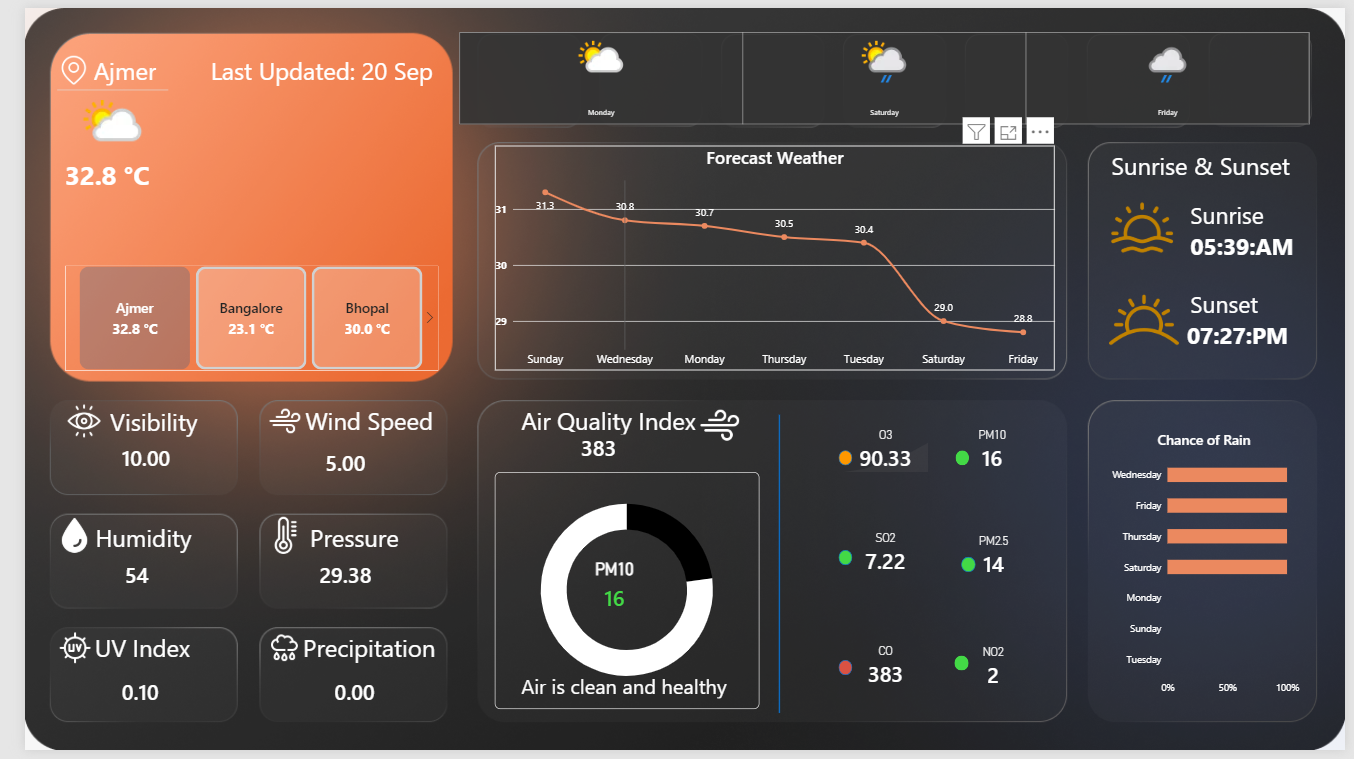

Layout of this report page (visuals, bound fields, positions):
{"tool":"powerbi","page":{"name":"Page 1","canvas":[1920,1080],"ordinal":0},"visuals":[{"type":"advancedSlicerVisual","fields":{"Values":["location.location.name"]},"box":[57.5,375,542.5,152.5],"z":0},{"type":"shape","box":[270,55,345,70],"z":1000},{"type":"image","box":[50.7,63.4,41.7,54.3],"z":2000},{"type":"cardVisual","fields":{"Data":["Min(Current Data.current.condition.icon)"]},"box":[46,16,162,204],"z":3000},{"type":"image","box":[0,576,172,48],"z":4000},{"type":"shape","box":[58,576,258,48],"z":5000},{"type":"image","box":[208,576,340,48],"z":6000},{"type":"shape","box":[402,576,198,46],"z":7000},{"type":"image","box":[8,740,128,54],"z":8000},{"type":"shape","box":[74,746,198,46],"z":9000},{"type":"image","box":[288,740,182,54],"z":10000},{"type":"shape","box":[380,746,198,46],"z":11000},{"type":"image","box":[0,906,146,48],"z":12000},{"type":"shape","box":[72,906,198,46],"z":13000},{"type":"image","box":[298,906,158,48],"z":14000},{"type":"shape","box":[402,906,198,46],"z":15000},{"type":"kpi","fields":{"Indicator":["Sum(Current Data.current.vis_km)"],"TrendLine":["Current Data.current.vis_km"]},"box":[50,570,252,170],"z":16000},{"type":"kpi","fields":{"Indicator":["Sum(Current Data.current.wind_kph)"],"TrendLine":["Current Data.current.wind_kph"]},"box":[340,576,252,170],"z":17000},{"type":"kpi","fields":{"TrendLine":["Current Data.current.humidity"],"Indicator":["Sum(Current Data.current.humidity)"]},"box":[36,740,252,170],"z":18000},{"type":"kpi","fields":{"Indicator":["Sum(Current Data.current.pressure_in)"],"TrendLine":["Current Data.current.pressure_mb"]},"box":[340,740,252,170],"z":19000},{"type":"kpi","fields":{"Indicator":["Sum(Current Data.current.uv)"],"TrendLine":["Current Data.current.uv"]},"box":[42,910,252,170],"z":20000},{"type":"kpi","fields":{"Indicator":["Sum(Current Data.current.precip_in)"],"TrendLine":["Current Data.current.precip_in"]},"box":[354,910,252,170],"z":21000},{"type":"advancedSlicerVisual","fields":{"Values":["forecast day.forecast.forecastday.day.condition.icon"],"Label":["Min(forecast_day.Day_Formated)"]},"box":[632.3,35.1,1237.4,134.1],"z":22000},{"type":"areaChart","title":"Forecast Weather","fields":{"Y":["Sum(forecast_day.forecast.forecastday.day.avgtemp_c)"],"Category":["forecast_day.Day_Formated"]},"box":[682.5,200,815,327.5],"z":23000},{"type":"shape","box":[1580,200,315,57.5],"z":24000},{"type":"shape","box":[1695,280,180,130],"z":25000},{"type":"shape","box":[1690,410,180,130],"z":26000},{"type":"shape","box":[1695,230,187.5,140],"z":27000},{"type":"shape","box":[1695,365,175,130],"z":28000},{"type":"image","box":[1580,177.5,90,282.5],"z":29000},{"type":"image","box":[1560,382.5,135,140],"z":30000},{"type":"hundredPercentStackedBarChart","title":"Chance of Rain","fields":{"Y":["Sum(forecast_day.forecast.forecastday.day.daily_chance_of_rain)"],"Category":["forecast_day.Day_Formated"]},"box":[1560,600,310,420],"z":31000},{"type":"shape","box":[722,576,276,44],"z":32000},{"type":"kpi","fields":{"Indicator":["Sum(Current Data.current.air_quality.co)"],"TrendLine":["Current Data.current.air_quality.co"]},"box":[708,586,252,106],"z":33000},{"type":"kpi","title":"PM10","fields":{"Indicator":["Sum(Current Data.current.air_quality.pm10)"],"TrendLine":["Current Data.current.air_quality.pm10"]},"box":[1328.3,596.7,156.7,95],"z":34000},{"type":"kpi","title":"O3","fields":{"Indicator":["Sum(forecast_day.forecast.forecastday.day.air_quality.o3)"],"TrendLine":["forecast_day.forecast.forecastday.day.air_quality.o3"]},"box":[1173.3,596.7,156.7,95],"z":35000},{"type":"kpi","title":"SO2","fields":{"Indicator":["Sum(Current Data.current.air_quality.so2)"],"TrendLine":["Current Data.current.air_quality.so2"]},"box":[1173.3,746.7,156.7,95],"z":36000},{"type":"kpi","title":"PM2.5","fields":{"Indicator":["Sum(Current Data.current.air_quality.pm2_5)"],"TrendLine":["Current Data.current.air_quality.pm2_5"]},"box":[1330,750,158,96],"z":37000},{"type":"kpi","title":"CO","fields":{"Indicator":["Sum(Current Data.current.air_quality.co)"],"TrendLine":["Current Data.current.condition.code"]},"box":[1173.3,910,156.7,95],"z":38000},{"type":"kpi","title":"NO2","fields":{"Indicator":["Sum(Current Data.current.air_quality.no2)"],"TrendLine":["Current Data.current.air_quality.no2"]},"box":[1330,911.7,156.7,95],"z":39000},{"type":"shape","box":[1351.1,942.2,21.1,22.2],"z":44000},{"type":"shape","box":[1354,644,20,22],"z":45000},{"type":"shape","box":[57.5,137.5,287.5,207.5],"z":47000},{"type":"shape","box":[100,32.5,560,112.5],"z":48001},{"type":"shape","box":[1361.1,797.8,21.1,22.2],"z":48002},{"type":"shape","box":[1184,644,20,22],"z":48003},{"type":"shape","box":[1184,788,20,22],"z":48004},{"type":"shape","box":[1184,948,20,22],"z":48005},{"type":"shape","box":[918,592,358,434],"z":48006},{"type":"kpi","title":"PM10","fields":{"Indicator":["Sum(Current Data.current.air_quality.pm10)"],"TrendLine":["Current Data.current.air_quality.pm10"]},"box":[778,786,158,112],"z":48007},{"type":"donutChart","fields":{"Y":["Sum(Current Data.current.air_quality.pm10)","_measures.left_value_PM10"]},"box":[683.3,675,385,345],"z":48008},{"type":"image","box":[968,576,84,60],"z":48009},{"type":"shape","box":[721.7,963.3,368.3,43.3],"z":48010}]}

Visuals, with their boxes in screenshot pixels (x1, y1, x2, y2), scaled from the page's 1920x1080 canvas onto the 1354x759 screenshot:
advancedSlicerVisual - location.location.name: 41 264 423 371
shape: 190 39 434 88
image: 36 45 65 83
cardVisual - Min(Current Data.current.condition.icon): 32 11 147 155
image: 0 405 121 439
shape: 41 405 223 439
image: 147 405 386 439
shape: 283 405 423 437
image: 6 520 96 558
shape: 52 524 192 557
image: 203 520 331 558
shape: 268 524 408 557
image: 0 637 103 670
shape: 51 637 190 669
image: 210 637 322 670
shape: 283 637 423 669
kpi - Sum(Current Data.current.vis_km) x Current Data.current.vis_km: 35 401 213 520
kpi - Sum(Current Data.current.wind_kph) x Current Data.current.wind_kph: 240 405 417 524
kpi - Current Data.current.humidity x Sum(Current Data.current.humidity): 25 520 203 640
kpi - Sum(Current Data.current.pressure_in) x Current Data.current.pressure_mb: 240 520 417 640
kpi - Sum(Current Data.current.uv) x Current Data.current.uv: 30 640 207 758
kpi - Sum(Current Data.current.precip_in) x Current Data.current.precip_in: 250 640 427 758
advancedSlicerVisual - forecast day.forecast.forecastday.day.condition.icon x Min(forecast_day.Day_Formated): 446 25 1319 119
"Forecast Weather" areaChart: 481 141 1056 371
shape: 1114 141 1336 181
shape: 1195 197 1322 288
shape: 1192 288 1319 379
shape: 1195 162 1328 260
shape: 1195 257 1319 348
image: 1114 125 1178 323
image: 1100 269 1195 367
"Chance of Rain" hundredPercentStackedBarChart: 1100 422 1319 717
shape: 509 405 704 436
kpi - Sum(Current Data.current.air_quality.co) x Current Data.current.air_quality.co: 499 412 677 486
"PM10" kpi: 937 419 1047 486
"O3" kpi: 827 419 938 486
"SO2" kpi: 827 525 938 592
"PM2.5" kpi: 938 527 1049 595
"CO" kpi: 827 640 938 706
"NO2" kpi: 938 641 1048 707
shape: 953 662 968 678
shape: 955 453 969 468
shape: 41 97 243 242
shape: 71 23 465 102
shape: 960 561 975 576
shape: 835 453 849 468
shape: 835 554 849 569
shape: 835 666 849 682
shape: 647 416 900 721
"PM10" kpi: 549 552 660 631
donutChart - Sum(Current Data.current.air_quality.pm10) x _measures.left_value_PM10: 482 474 753 717
image: 683 405 742 447
shape: 509 677 769 707
